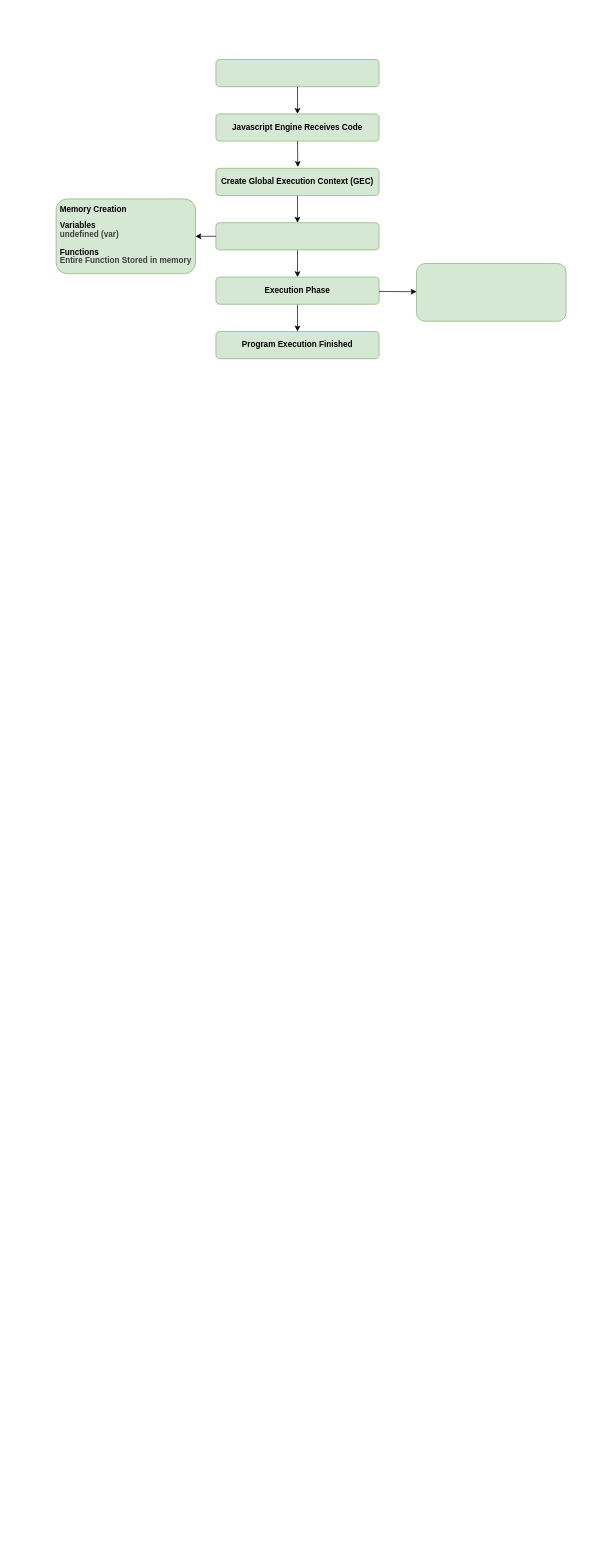
Some shapes in this 594 by 1553 pixel diagram are drawn without their labels. Each missing label, with the centre of its shape:
"Execute Line 1 Execute Line 2 Execute Line 3 Program Ends" belongs at point 491,292.
"JavaScript File Starts script.js" belongs at point 297,73.
"Memory Creation Phase" belongs at point 297,236.
